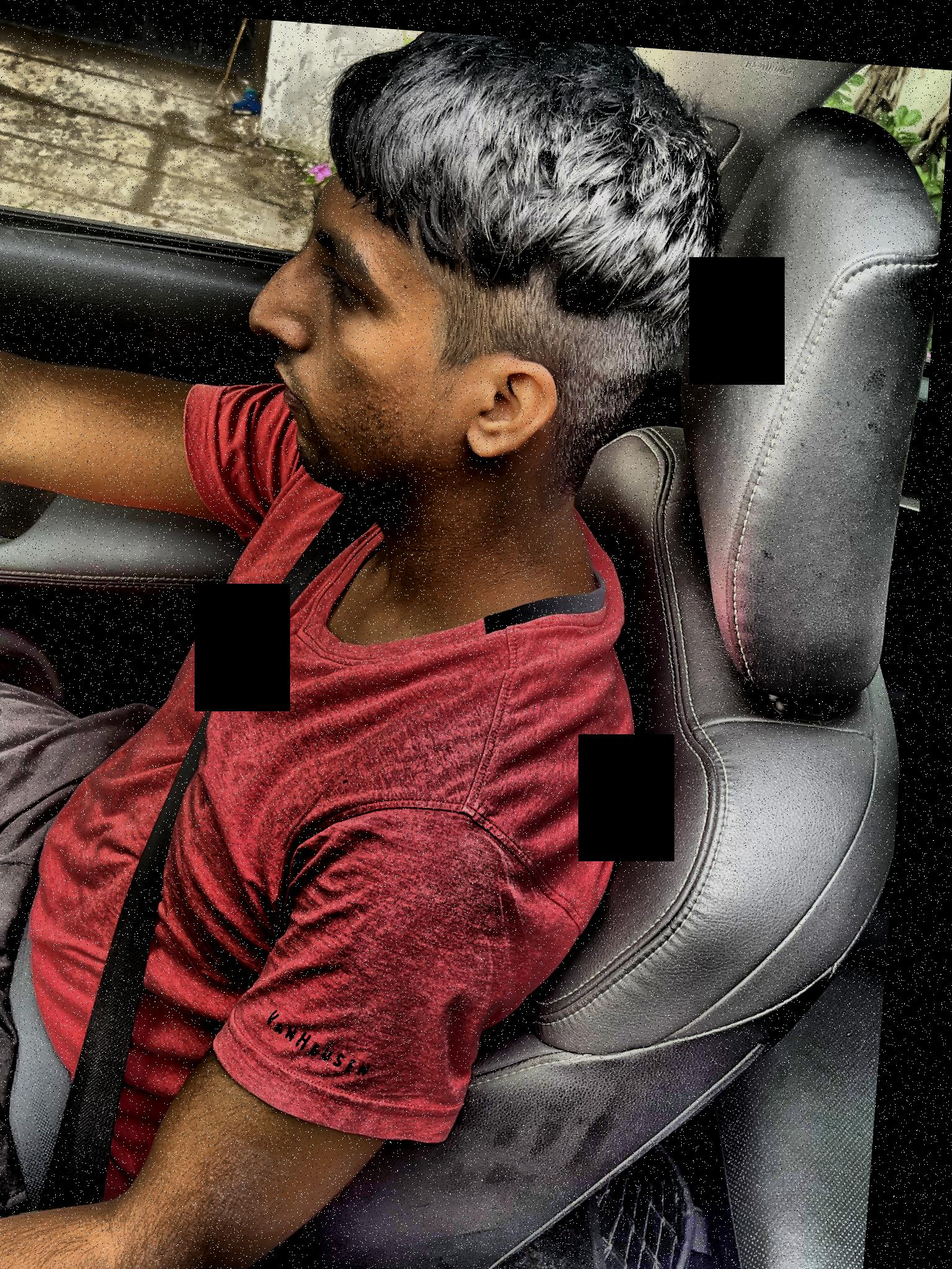seatbelt: (52, 458, 409, 1237)
